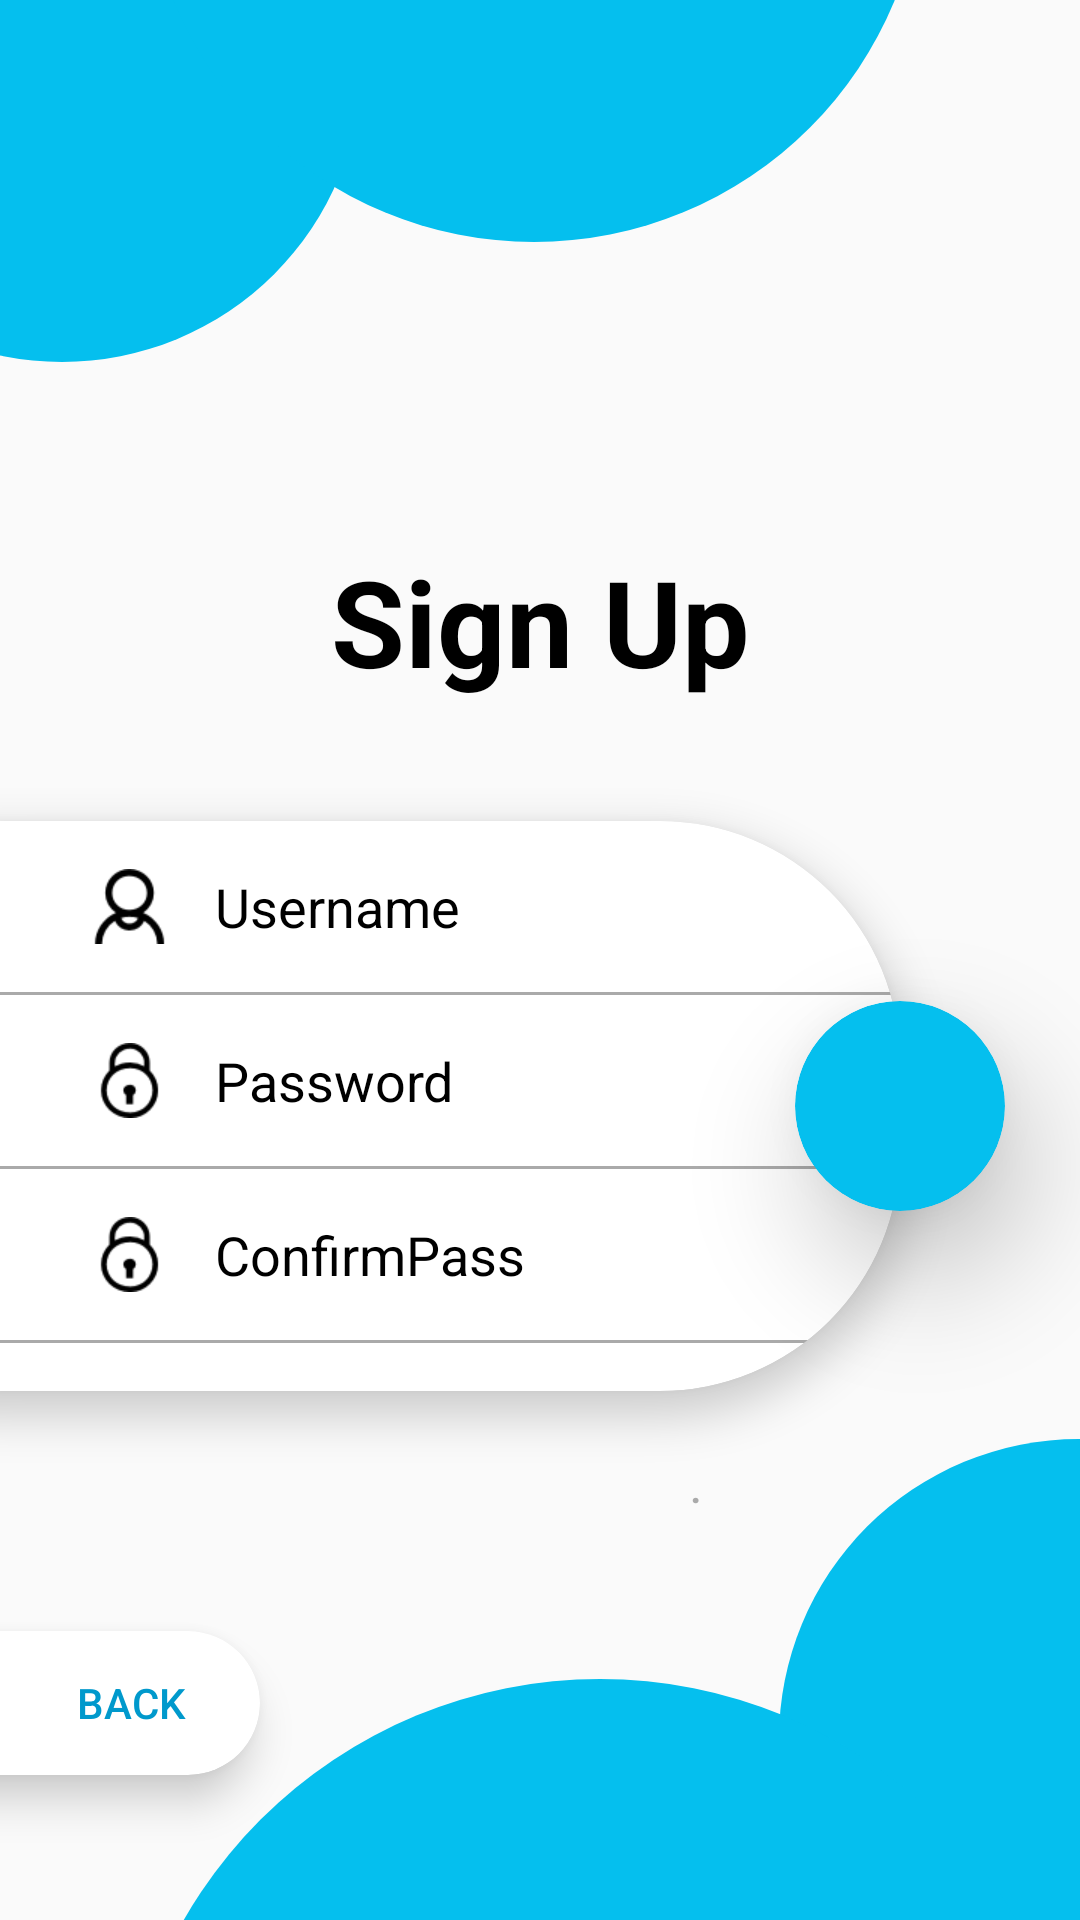

Icon bounding boxes for this 1080 × 1920 phone screenshot, format (x1, y1, x2, y2):
lock: (100, 1043, 159, 1118), (100, 1217, 159, 1292)
